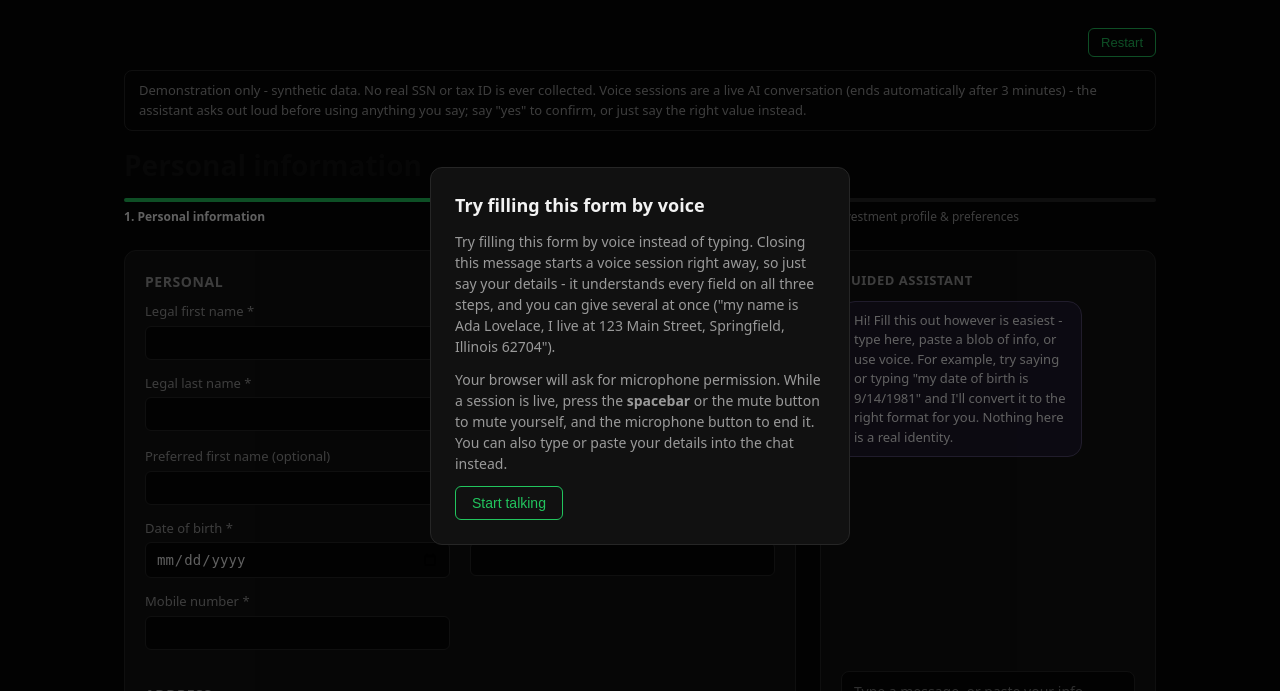
Test: PersonalInformationPage › a voice proposal is shown as text only - it never fills the field by itself
The width and height of the screenshot is (1280, 691).
Step 1. Click the button "Start talking" → x=509, y=503, box [455,486,563,520]
(page scrolled)
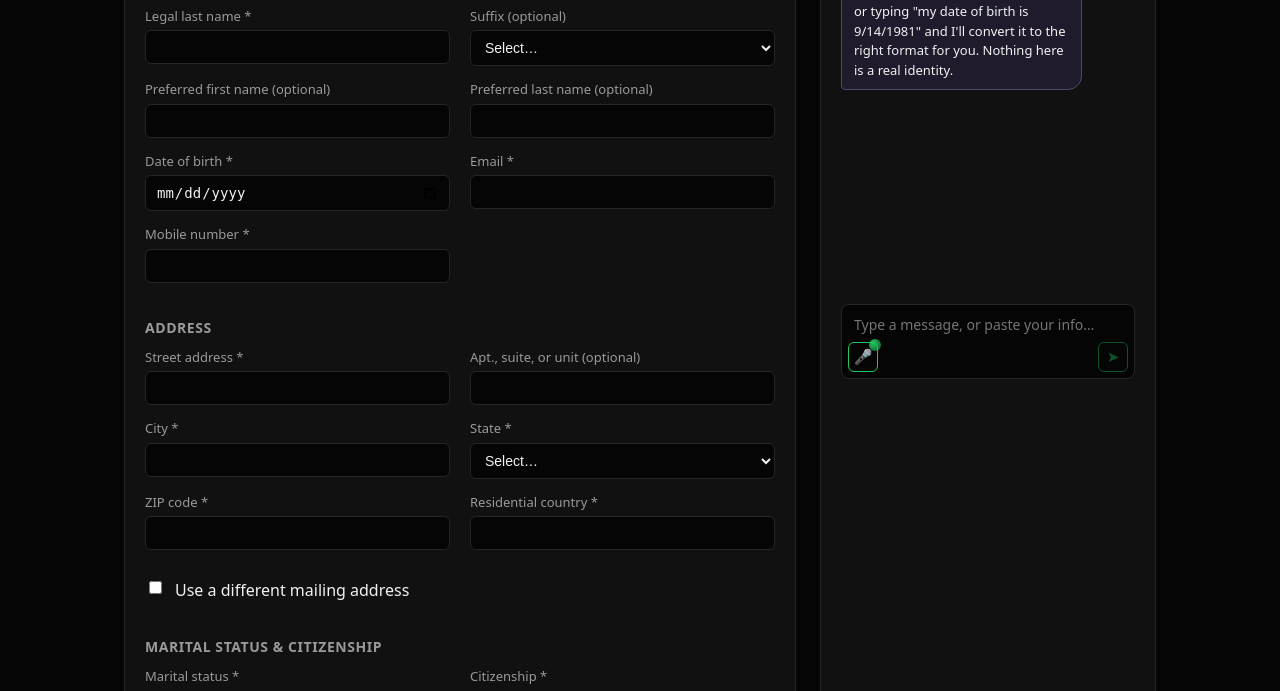
Step 2. Click the button "🎤" → x=863, y=356, box [848,342,878,372]
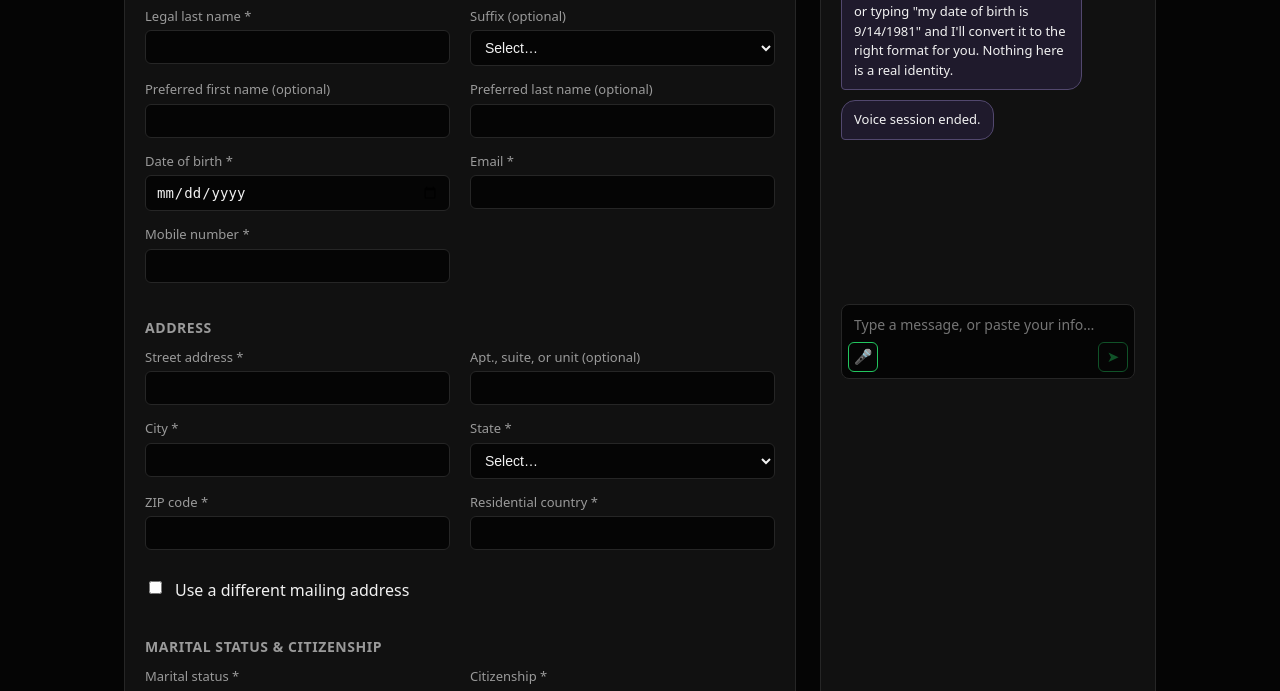
Step 3. Click the button named "ask with voice" → x=863, y=356, box [848,342,878,372]
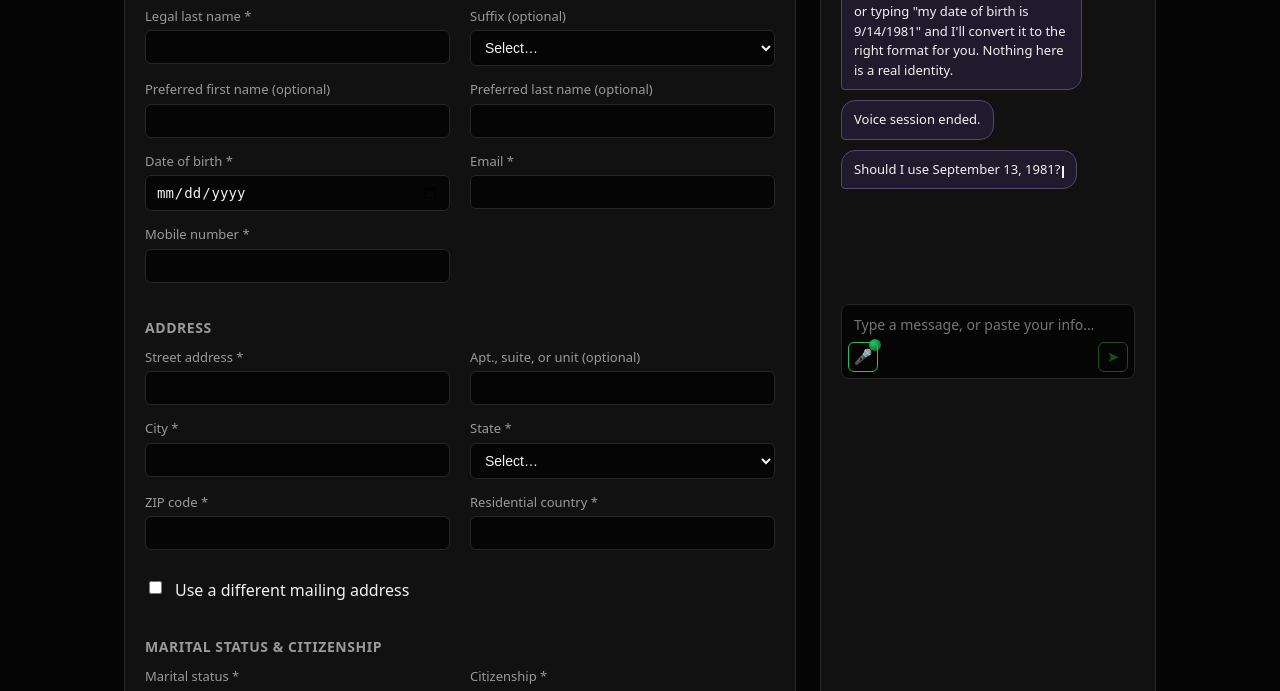
Expected: the date field labelled "Date of birth *" is empty, [145,175,450,211]
Expected: the text "Should I use September 13, 1981?" is shown, [854,160,1064,179]
